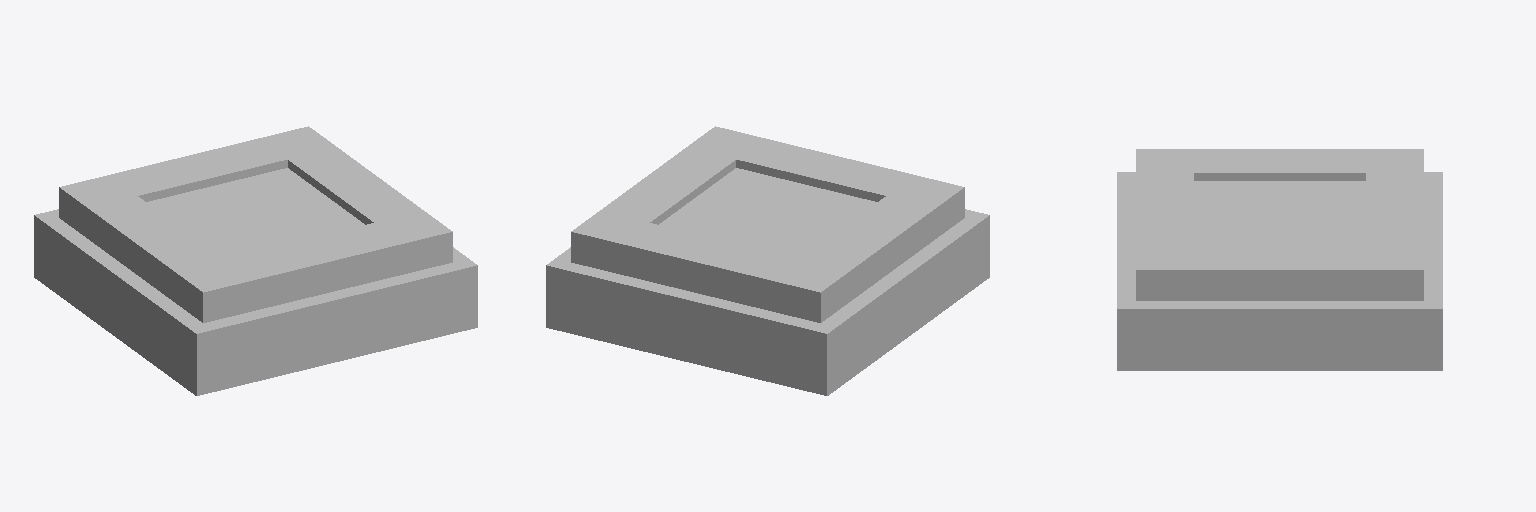
File: luxcapacitor.obj
The picture shows the model from 3 angles: view 1: azimuth 30°, elevation 25°; view 2: azimuth 150°, elevation 25°; view 3: azimuth 270°, elevation 25°; orthographic projection.
Parts seen in each view (by area): view 1: poplight, poplight001; view 2: poplight, poplight001; view 3: poplight, poplight001.
Part boxes in pixels (left/top/right/bottom): poplight: left=34, top=126, right=477, bottom=395; poplight001: left=147, top=168, right=364, bottom=258; poplight: left=546, top=126, right=989, bottom=395; poplight001: left=659, top=168, right=876, bottom=258; poplight: left=1117, top=149, right=1442, bottom=370; poplight001: left=1194, top=181, right=1365, bottom=245.
Size of the model in its own units: 12.9 by 4.08 by 12.9.